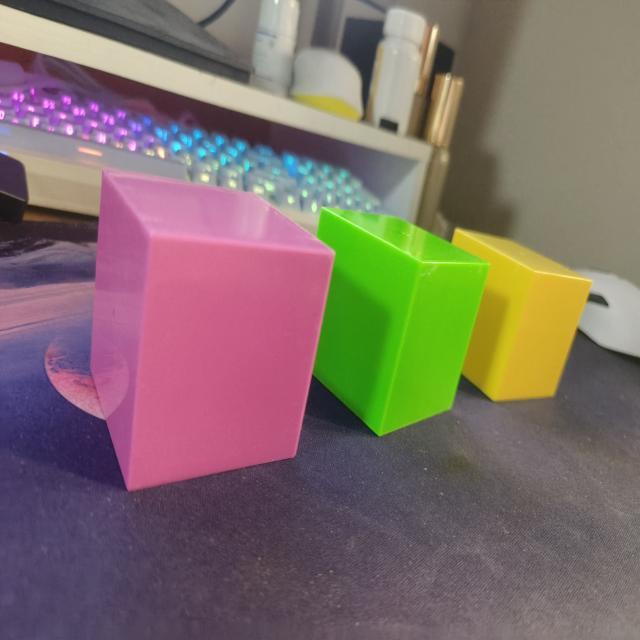green: (313, 208, 489, 439)
pink: (73, 166, 335, 494)
yellow: (450, 229, 595, 405)
